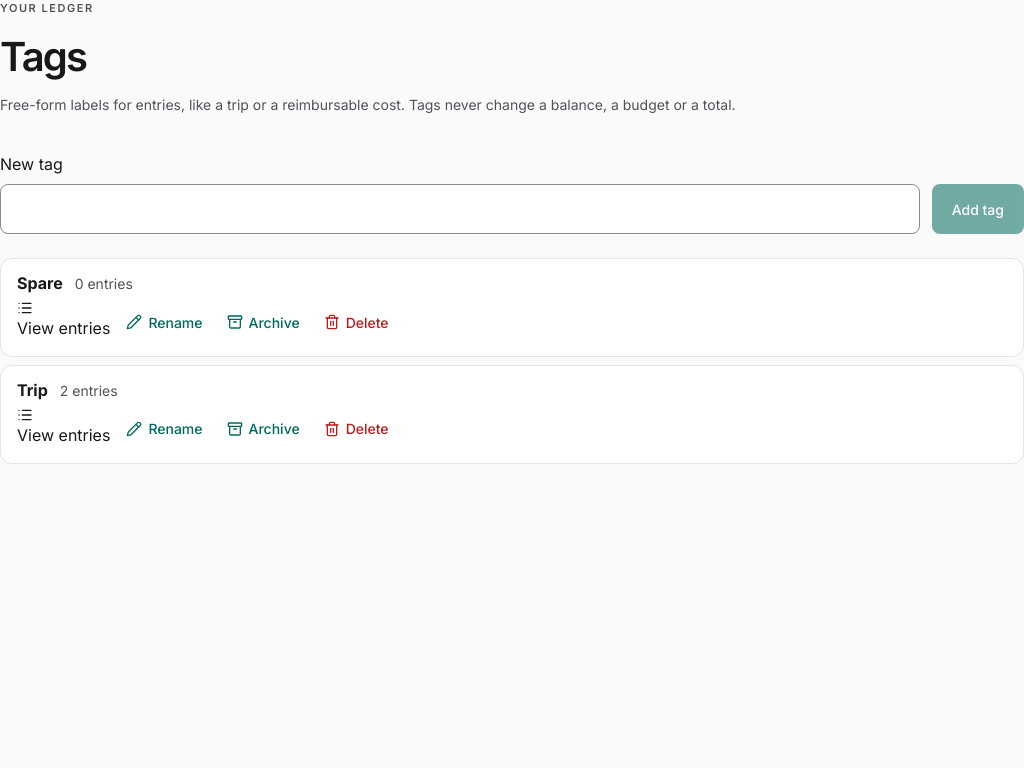
Test: keeps Delete disabled for a tag that entries use and deletes an unused one
Expected: the text "2 entries" is shown, [60, 379, 118, 403]
Alphabetical: Spare first, Trip second.
What coordinates should you click on to do the following:
click the button "Delete" below "2 entries"
I would click on:
 (356, 429)
Its box is [316, 407, 396, 451].
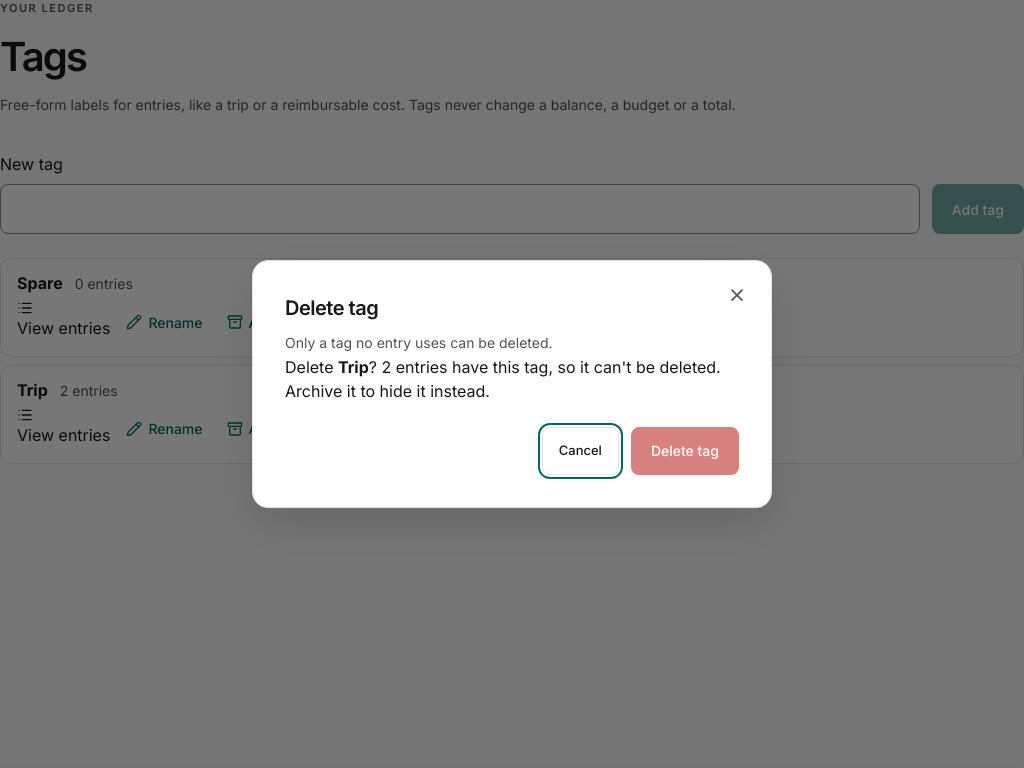
Expected: the button "Delete tag" is disabled, [631, 427, 739, 475]
What coordinates should you click on to do the following:
click the button "Cancel"
I would click on:
 (580, 451)
Its box is [542, 427, 619, 475].
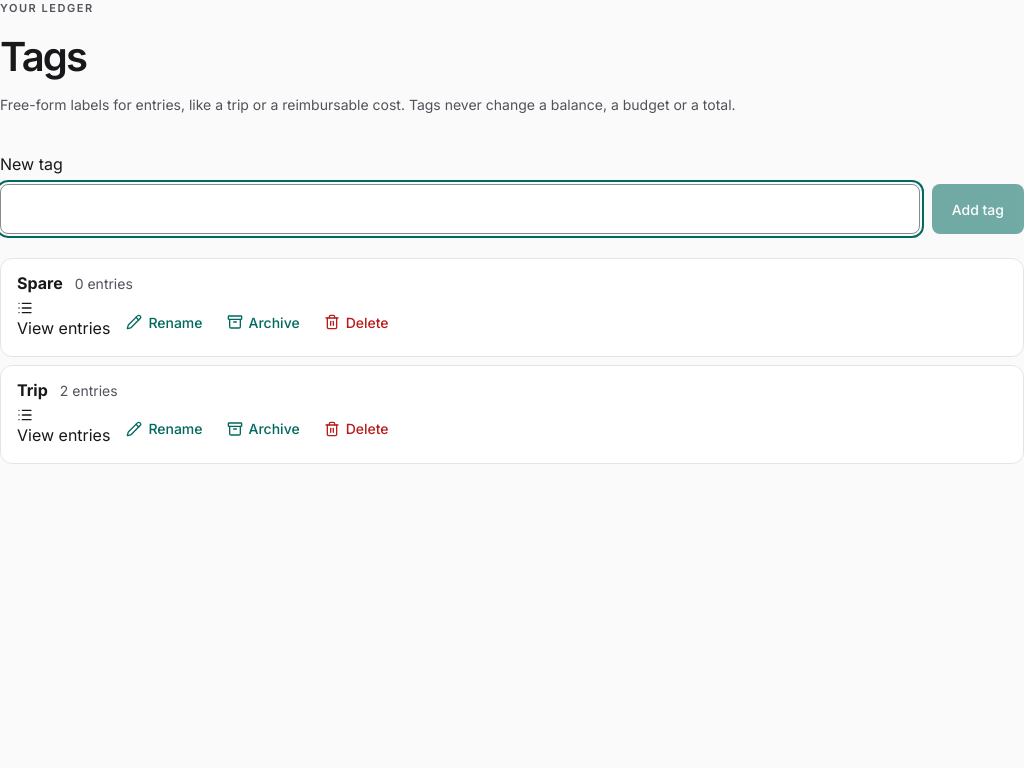
What coordinates should you click on to do the following:
click the button "Delete" below "Spare"
I would click on:
 (356, 322)
Its box is [316, 300, 396, 344].
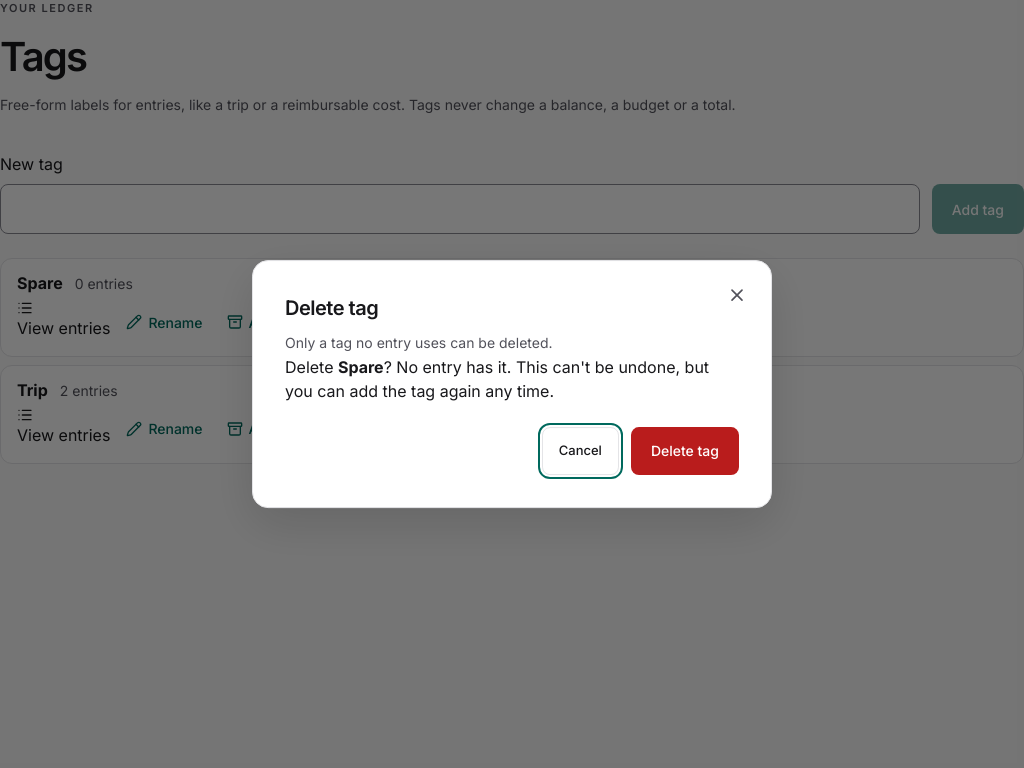
What coordinates should you click on to do the following:
click the button "Delete tag"
I would click on:
 (685, 451)
Its box is [631, 427, 739, 475].
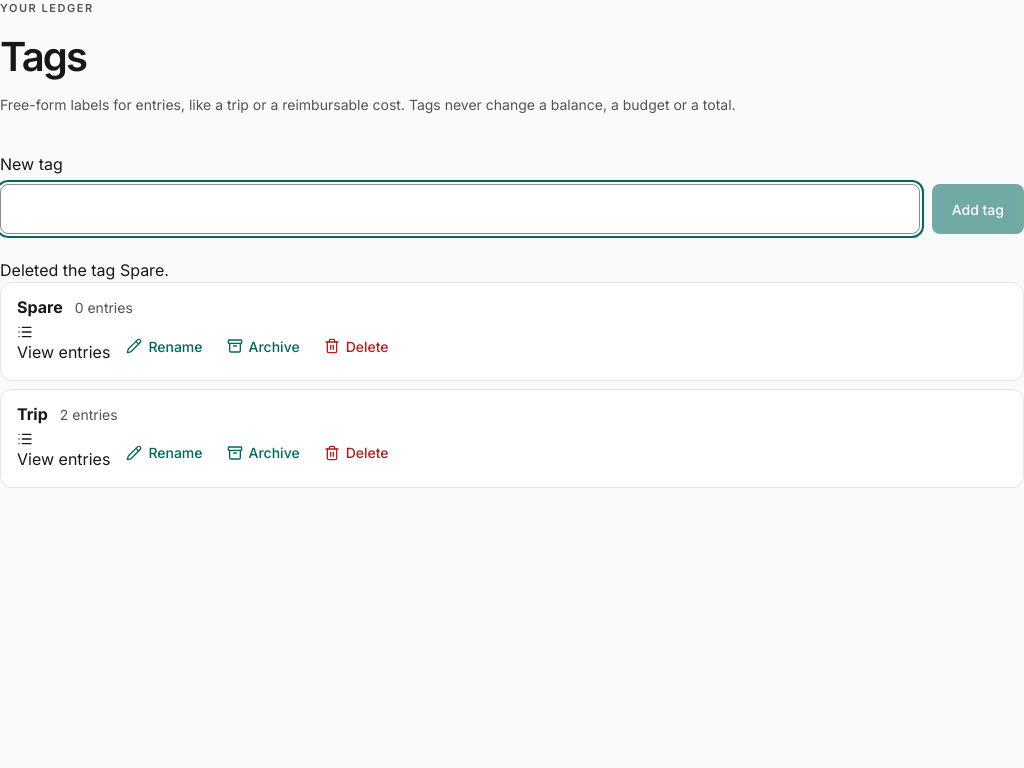
Expected: the text "Deleted the tag Spare." is shown, [0, 260, 169, 280]
